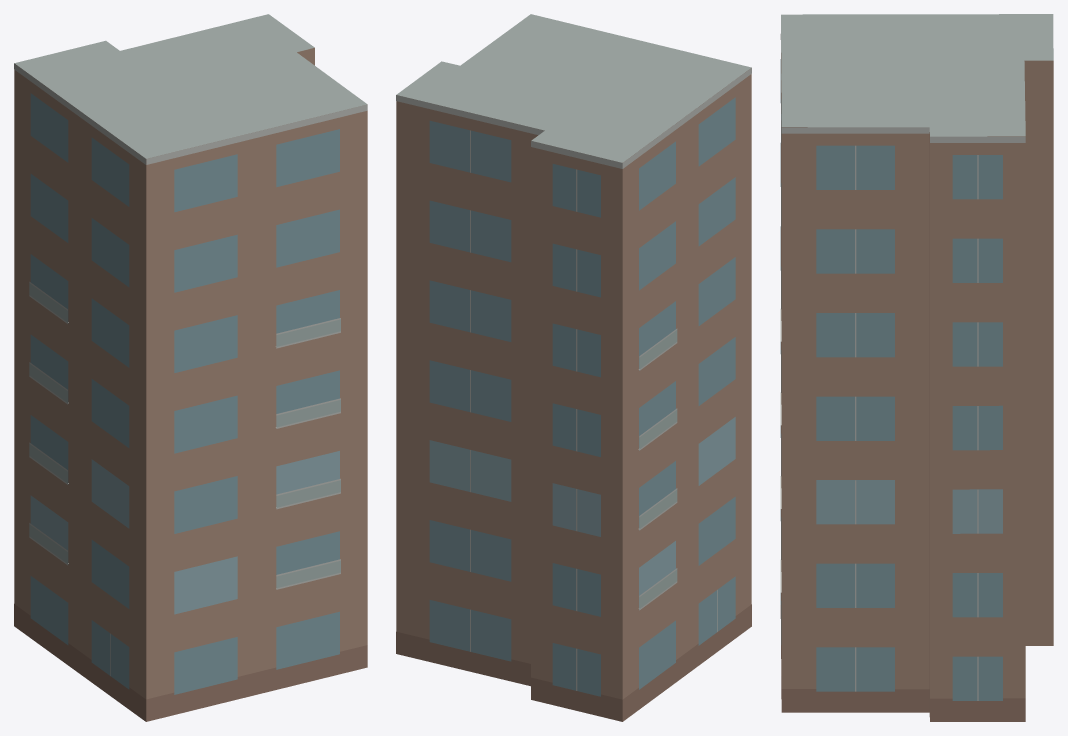
File: survey-upis-32971436.glb
3 renders of one model, left to right at view 1: azimuth 30°, elevation 25°; view 2: azimuth 150°, elevation 25°; view 3: azimuth 270°, elevation 25°, orthographic. The views are drawn at different scales.
Parts seen in each view (by area): view 1: survey-upis-32971436.tmp; view 2: survey-upis-32971436.tmp; view 3: survey-upis-32971436.tmp.
Part boxes in pixels (x1,y1,x2,y2): survey-upis-32971436.tmp: (14,14,367,721); survey-upis-32971436.tmp: (396,14,751,721); survey-upis-32971436.tmp: (780,14,1053,721).
Bounding box in the file's own units: 9.92 × 22 × 9.32.
